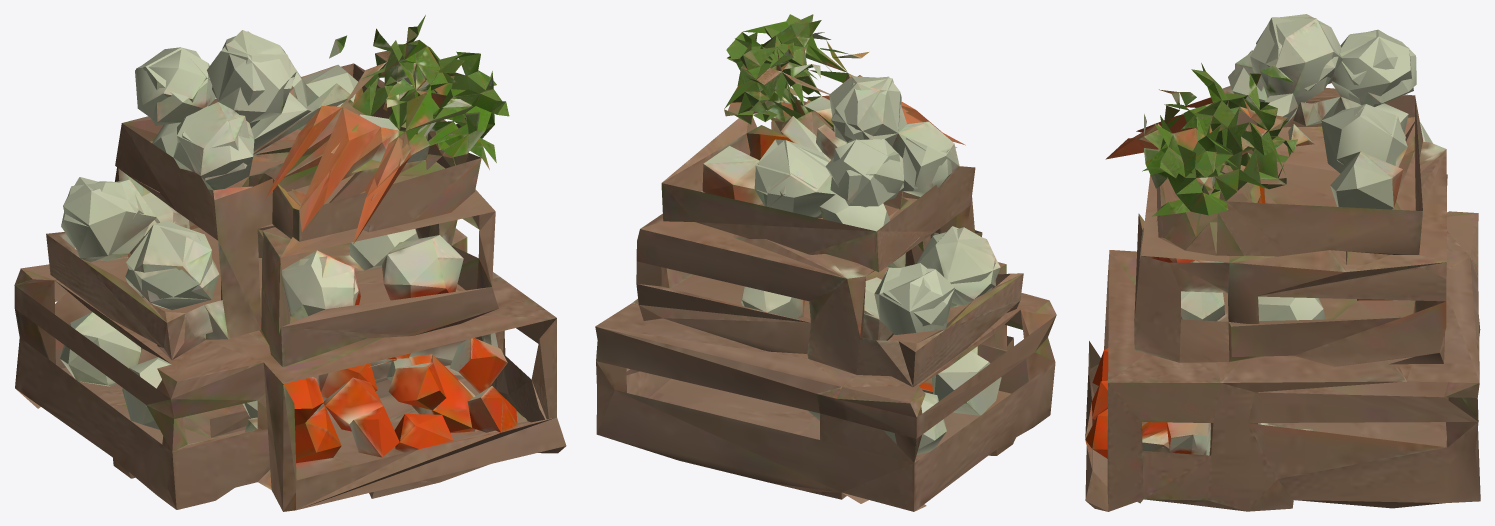
Rendered from crates.glb.
3 renders of one model, left to right at view 1: azimuth 30°, elevation 25°; view 2: azimuth 150°, elevation 25°; view 3: azimuth 270°, elevation 25°, orthographic. The views are drawn at different scales.
Size of the model in its own units: 1.75 by 1.85 by 1.68.
1 material, 1 textured.
